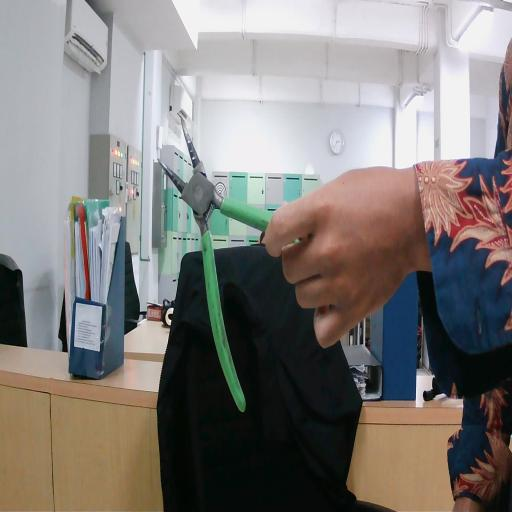tang_scun_hidrolik: (149, 108, 292, 422)
